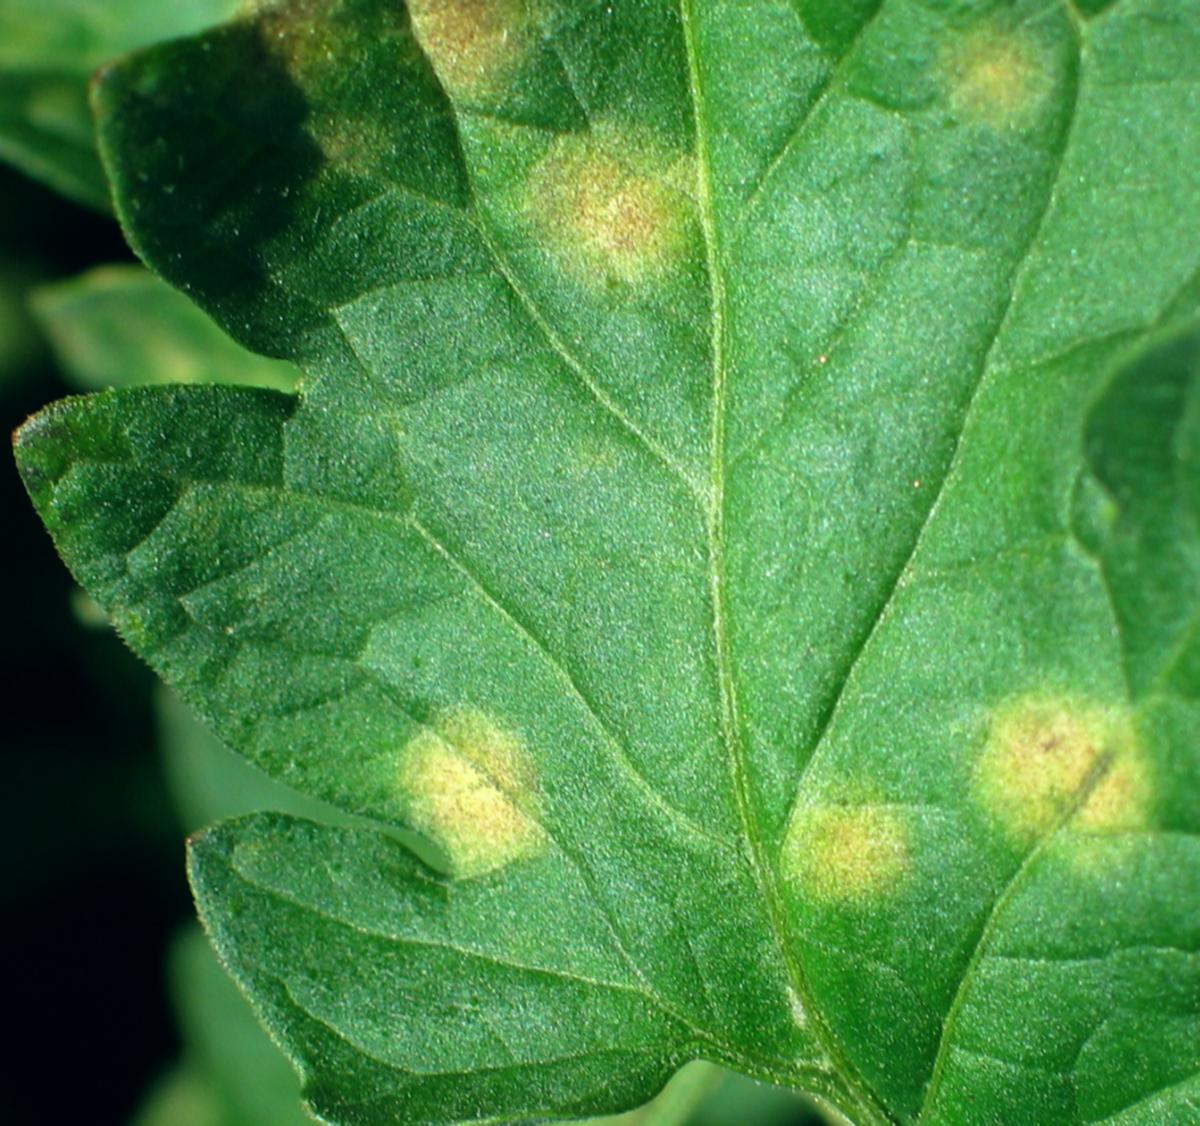Tomato mold leaf: (26, 0, 1185, 1112)
